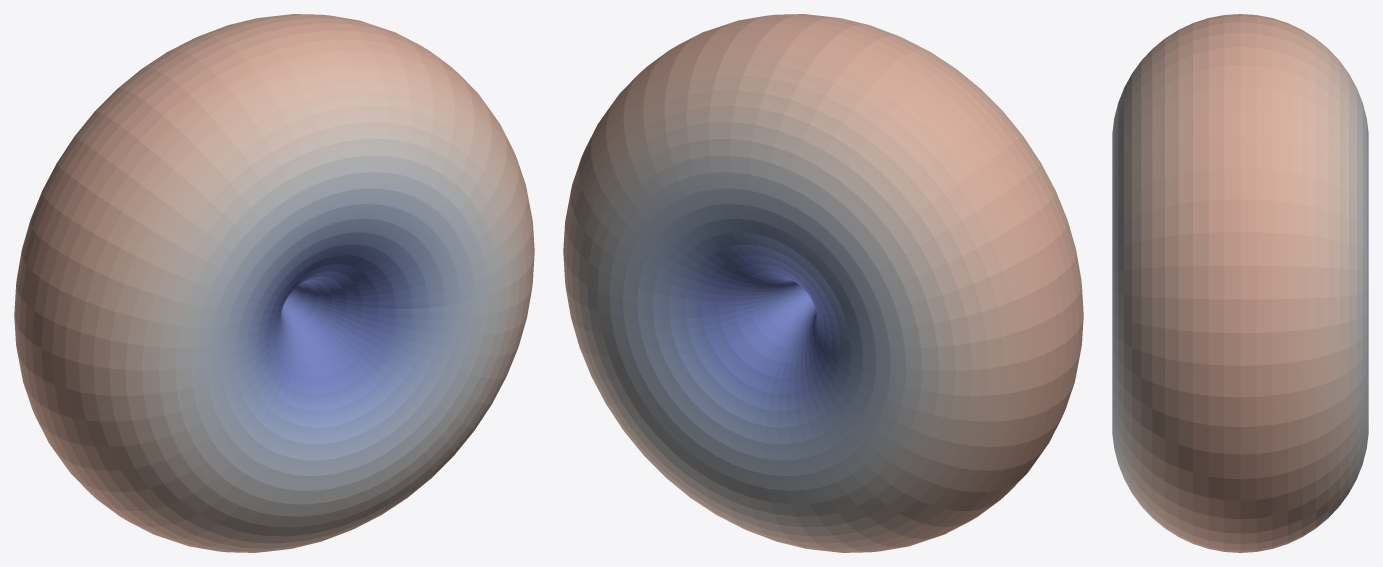
3 views of the same model, side by side, from view 1: azimuth 30°, elevation 25°; view 2: azimuth 150°, elevation 25°; view 3: azimuth 270°, elevation 25° (orthographic). The views are drawn at different scales.
Visible parts, largest first — view 1: world; view 2: world; view 3: world.
Part boxes in pixels (left/top/right/bottom): world: left=14, top=14, right=534, bottom=552; world: left=563, top=14, right=1083, bottom=552; world: left=1112, top=14, right=1368, bottom=552.
Size of the model in its own units: 20.4 by 20.36 by 9.71.
